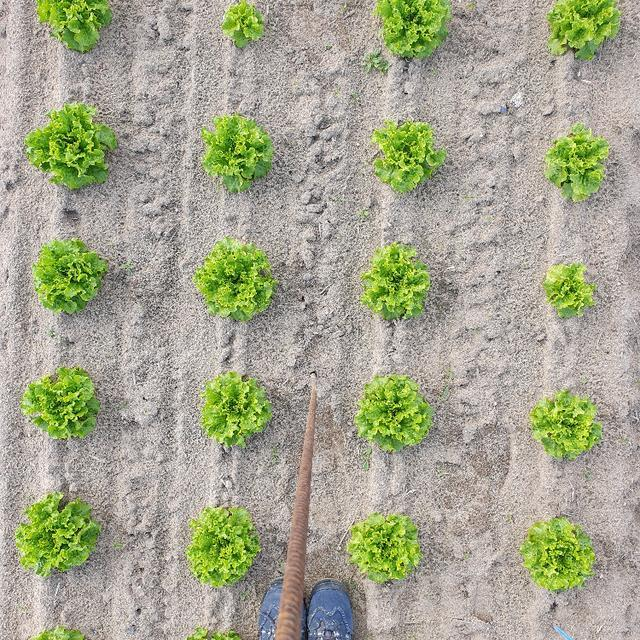Lettuce: (13, 490, 105, 583), (23, 103, 117, 192), (346, 508, 426, 595), (197, 235, 278, 320), (365, 112, 447, 195), (183, 506, 262, 592), (352, 372, 432, 452), (198, 370, 280, 447), (35, 232, 110, 316), (518, 517, 595, 595), (535, 382, 607, 465), (25, 365, 100, 442), (365, 245, 437, 325), (545, 0, 628, 66), (205, 110, 272, 188), (376, 0, 453, 66), (547, 128, 615, 202), (542, 253, 598, 322), (40, 0, 110, 51), (223, 0, 259, 53)
